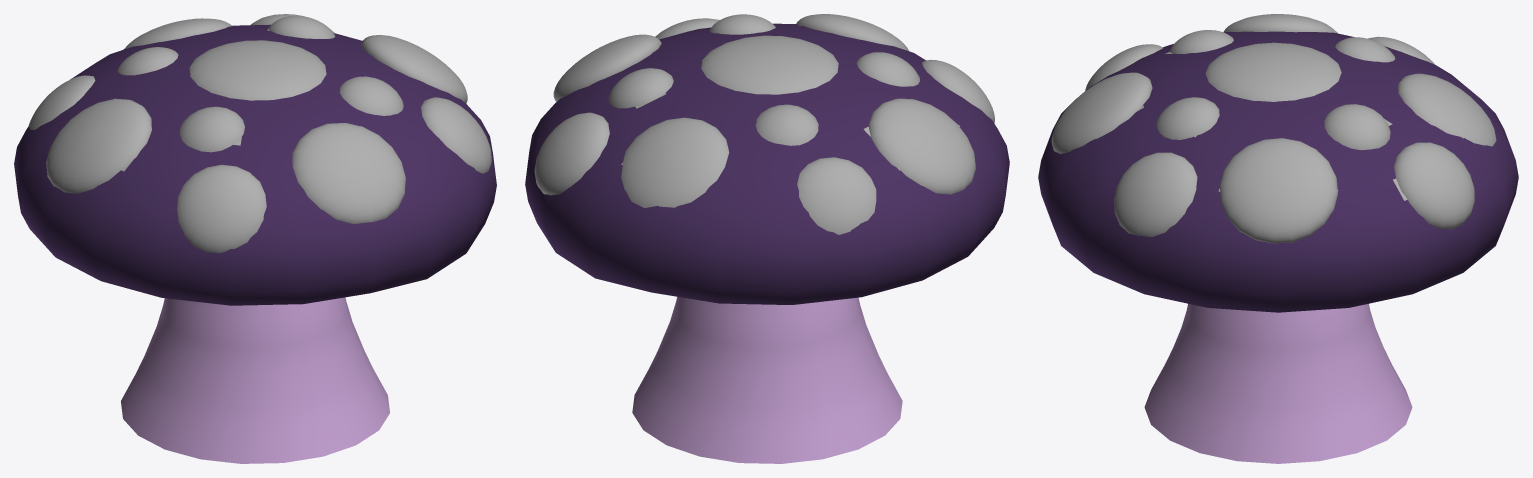
The model's file is hongoMoradoBlanco.fbx.
3 renders of one model, left to right at view 1: azimuth 30°, elevation 25°; view 2: azimuth 150°, elevation 25°; view 3: azimuth 270°, elevation 25°, orthographic.
Visible parts, largest first — view 1: Hongo; view 2: Hongo; view 3: Hongo.
Part boxes in pixels (x1,y1,x2,y2): Hongo: (14,14,496,463); Hongo: (525,14,1009,463); Hongo: (1038,14,1518,463).
Size of the model in its own units: 4 by 3.2 by 4.
